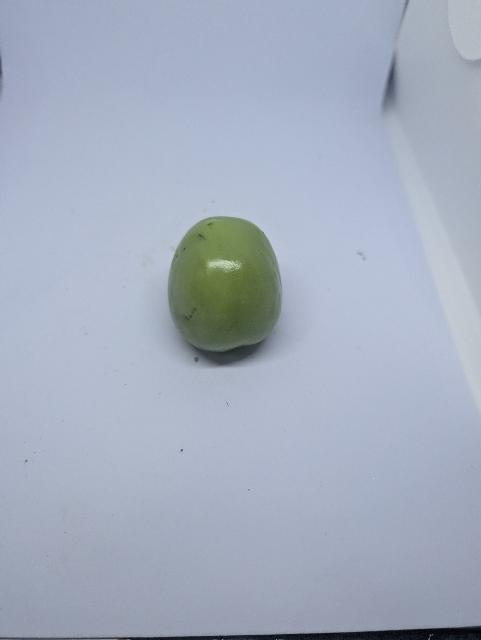green: (166, 216, 286, 355)
